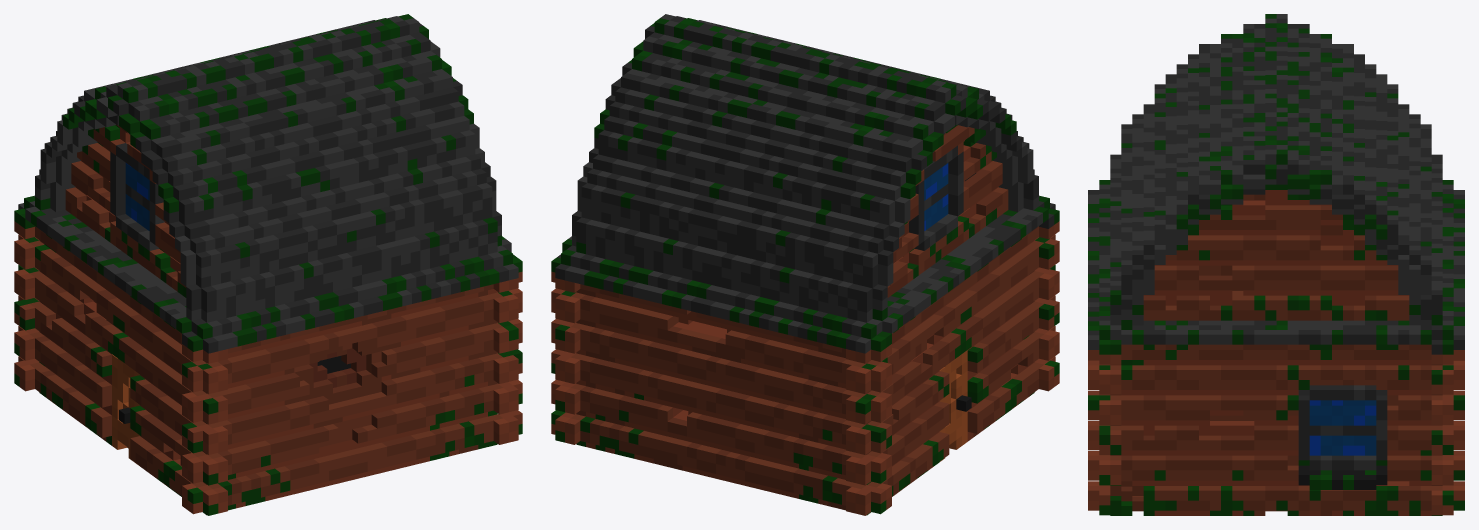
Rendered from house.obj.
3 views of the same model, side by side, from view 1: azimuth 30°, elevation 25°; view 2: azimuth 150°, elevation 25°; view 3: azimuth 270°, elevation 25° (orthographic).
Size of the model in its own units: 3.5 by 3.6 by 3.4.
